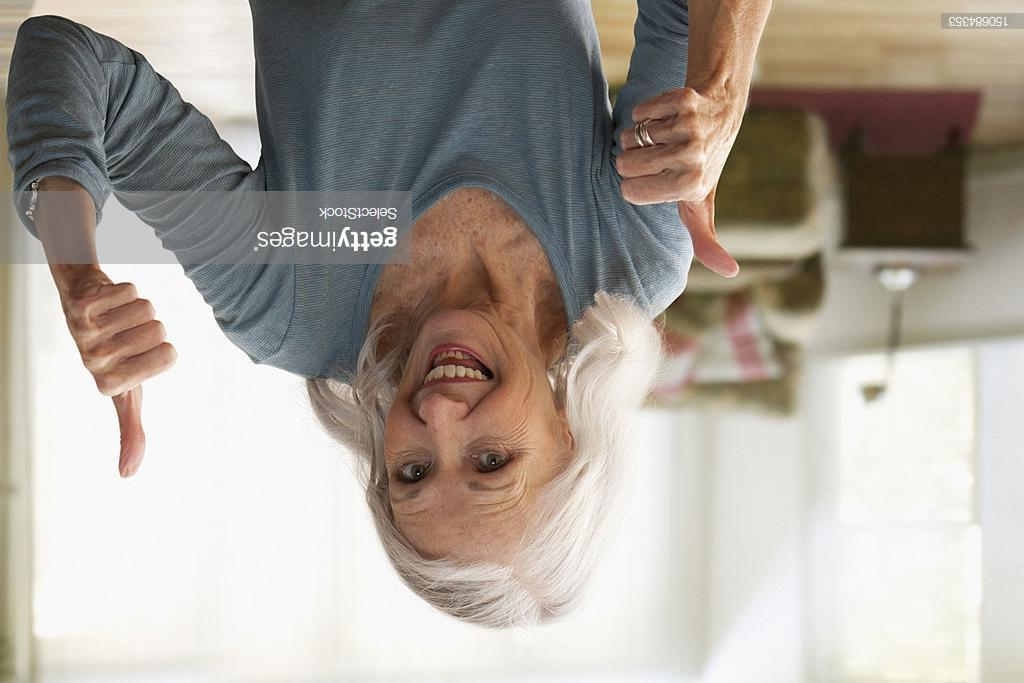thumbsdown: (615, 86, 741, 279), (72, 282, 179, 480)
